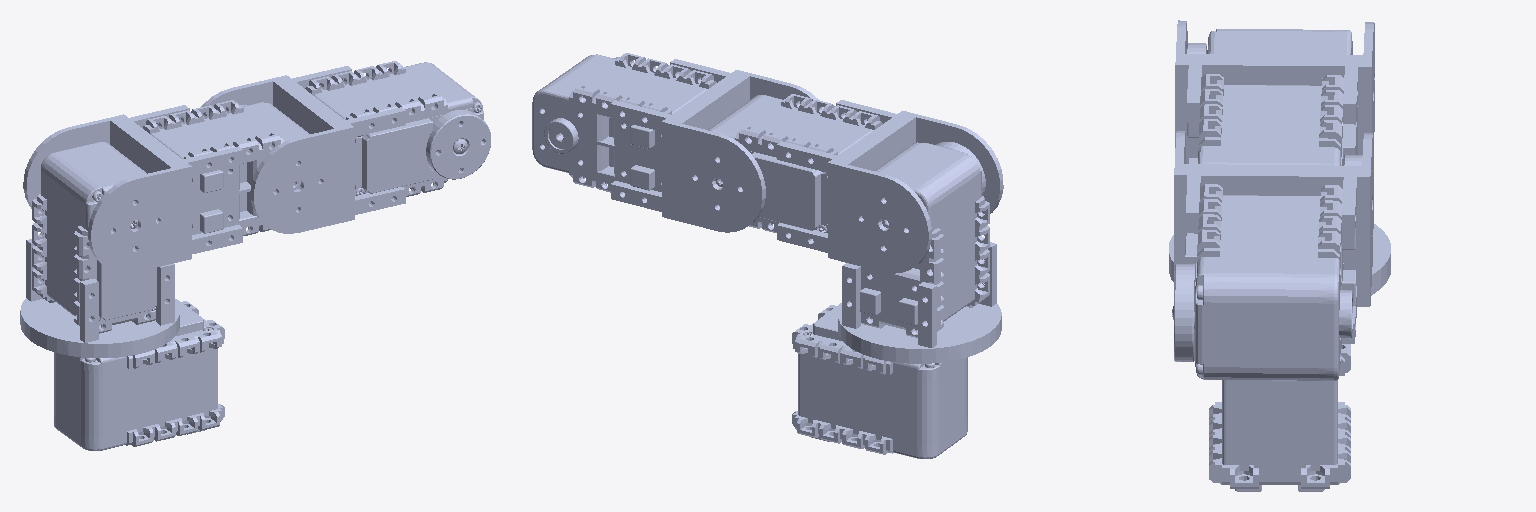
robot.urdf — acps:
<?xml version="1.0" encoding="utf-8"?>
<!-- This URDF was automatically created by SolidWorks to URDF Exporter! Originally created by [author] ([email redacted]) 
     Commit Version: 1.6.0-4-g7f85cfe  Build Version: 1.6.7995.38578
     For more information, please see http://wiki.ros.org/sw_urdf_exporter -->
<robot
  name="acps">
  <link
    name="base_link">
    <inertial>
      <origin
        xyz="0.012611 -6.0679E-09 0.02001"
        rpy="0 0 0" />
      <mass
        value="0.043005" />
      <inertia
        ixx="3.5652E-06"
        ixy="-9.8445E-12"
        ixz="-3.2723E-08"
        iyy="8.7138E-06"
        iyz="-6.3531E-13"
        izz="9.9719E-06" />
    </inertial>
    <visual>
      <origin
        xyz="0 0 0"
        rpy="0 0 0" />
      <geometry>
        <mesh
          filename="package://dynamixel_arm/meshes/base_link.STL" />
      </geometry>
      <material
        name="">
        <color
          rgba="0.79216 0.81961 0.93333 1" />
      </material>
    </visual>
    <collision>
      <origin
        xyz="0 0 0"
        rpy="0 0 0" />
      <geometry>
        <mesh
          filename="package://dynamixel_arm/meshes/base_link.STL" />
      </geometry>
    </collision>
  </link>
  <link
    name="link1">
    <inertial>
      <origin
        xyz="-2.1121E-05 -0.00096642 0.025442"
        rpy="0 0 0" />
      <mass
        value="0.053822" />
      <inertia
        ixx="1.0805E-05"
        ixy="2.4467E-08"
        ixz="-7.0498E-10"
        iyy="1.1924E-05"
        iyz="-3.2716E-08"
        izz="7.1817E-06" />
    </inertial>
    <visual>
      <origin
        xyz="0 0 0"
        rpy="0 0 0" />
      <geometry>
        <mesh
          filename="package://dynamixel_arm/meshes/link1.STL" />
      </geometry>
      <material
        name="">
        <color
          rgba="0.79216 0.81961 0.93333 1" />
      </material>
    </visual>
    <collision>
      <origin
        xyz="0 0 0"
        rpy="0 0 0" />
      <geometry>
        <mesh
          filename="package://dynamixel_arm/meshes/link1.STL" />
      </geometry>
    </collision>
  </link>
  <joint
    name="theta1"
    type="continuous">
    <origin
      xyz="0 0 0.0398"
      rpy="0 0 0" />
    <parent
      link="base_link" />
    <child
      link="link1" />
    <axis
      xyz="0 0 1" />
  </joint>
  <link
    name="link2">
    <inertial>
      <origin
        xyz="0.038557 -4.5964E-09 6.8917E-05"
        rpy="0 0 0" />
      <mass
        value="0.055878" />
      <inertia
        ixx="7.9123E-06"
        ixy="9.8443E-12"
        ixz="-3.2723E-08"
        iyy="1.3121E-05"
        iyz="6.0253E-13"
        izz="1.2397E-05" />
    </inertial>
    <visual>
      <origin
        xyz="0 0 0"
        rpy="0 0 0" />
      <geometry>
        <mesh
          filename="package://dynamixel_arm/meshes/link2.STL" />
      </geometry>
      <material
        name="">
        <color
          rgba="0.79216 0.81961 0.93333 1" />
      </material>
    </visual>
    <collision>
      <origin
        xyz="0 0 0"
        rpy="0 0 0" />
      <geometry>
        <mesh
          filename="package://dynamixel_arm/meshes/link2.STL" />
      </geometry>
    </collision>
  </link>
  <joint
    name="theta2"
    type="continuous">
    <origin
      xyz="0 0 0.0435"
      rpy="1.5708 0 -0.021846" />
    <parent
      link="link1" />
    <child
      link="link2" />
    <axis
      xyz="0 0 -1" />
    <limit
      lower="0"
      upper="0"
      effort="0"
      velocity="0" />
  </joint>
  <link
    name="link3">
    <inertial>
      <origin
        xyz="0.038557 4.7423E-09 0.00093108"
        rpy="0 0 0" />
      <mass
        value="0.055878" />
      <inertia
        ixx="7.9123E-06"
        ixy="-9.8431E-12"
        ixz="3.2723E-08"
        iyy="1.3121E-05"
        iyz="6.6801E-13"
        izz="1.2397E-05" />
    </inertial>
    <visual>
      <origin
        xyz="0 0 0"
        rpy="0 0 0" />
      <geometry>
        <mesh
          filename="package://dynamixel_arm/meshes/link3.STL" />
      </geometry>
      <material
        name="">
        <color
          rgba="0.79216 0.81961 0.93333 1" />
      </material>
    </visual>
    <collision>
      <origin
        xyz="0 0 0"
        rpy="0 0 0" />
      <geometry>
        <mesh
          filename="package://dynamixel_arm/meshes/link3.STL" />
      </geometry>
    </collision>
  </link>
  <joint
    name="theta3"
    type="continuous">
    <origin
      xyz="0.05855 0 0"
      rpy="0 0 0" />
    <parent
      link="link2" />
    <child
      link="link3" />
    <axis
      xyz="0 0 -1" />
    <limit
      lower="0"
      upper="0"
      effort="0"
      velocity="0" />
  </joint>
  <link
    name="link4">
    <inertial>
      <origin
        xyz="0.013893 -1.8041E-15 0.001"
        rpy="0 0 0" />
      <mass
        value="0.012873" />
      <inertia
        ixx="4.3471E-06"
        ixy="2.6012E-20"
        ixz="-4.8142E-21"
        iyy="4.4076E-06"
        iyz="-1.7487E-20"
        izz="2.4256E-06" />
    </inertial>
    <visual>
      <origin
        xyz="0 0 0"
        rpy="0 0 0" />
      <geometry>
        <mesh
          filename="package://dynamixel_arm/meshes/link4.STL" />
      </geometry>
      <material
        name="">
        <color
          rgba="0.79216 0.81961 0.93333 1" />
      </material>
    </visual>
    <collision>
      <origin
        xyz="0 0 0"
        rpy="0 0 0" />
      <geometry>
        <mesh
          filename="package://dynamixel_arm/meshes/link4.STL" />
      </geometry>
    </collision>
  </link>
  <joint
    name="theta4"
    type="continuous">
    <origin
      xyz="0.05855 0 0"
      rpy="0 0 0" />
    <parent
      link="link3" />
    <child
      link="link4" />
    <axis
      xyz="0 0 -1" />
    <limit
      lower="0"
      upper="0"
      effort="0"
      velocity="0" />
  </joint>
</robot>

--- What the picture shows (computed from the rendered views, not written in the file) ---
Views: 3 orthographic renders of the robot side by side, from view 1: azimuth 30°, elevation 25°; view 2: azimuth 150°, elevation 25°; view 3: azimuth 270°, elevation 25°.
Robot: acps — 5 links, 4 joints (4 continuous); root link base_link; default pose: all joints at 0.
Visible links, largest first — view 1: link3, link2, link1, base_link; view 2: link3, link2, link1, base_link; view 3: link3, link2, base_link, link1.
Boxes of the visible links, x1=… form: link3: x1=201, y1=61, x2=490, y2=233; link2: x1=23, y1=100, x2=319, y2=272; link1: x1=20, y1=142, x2=179, y2=357; base_link: x1=54, y1=299, x2=224, y2=450; link3: x1=532, y1=53, x2=823, y2=232; link2: x1=696, y1=94, x2=1003, y2=273; link1: x1=838, y1=142, x2=1001, y2=363; base_link: x1=792, y1=303, x2=967, y2=458; link3: x1=1172, y1=131, x2=1373, y2=380; link2: x1=1175, y1=20, x2=1374, y2=165; base_link: x1=1209, y1=344, x2=1350, y2=491; link1: x1=1169, y1=29, x2=1390, y2=295.
Bounding box of the posed robot: 0.1539 × 0.0499 × 0.0995 m (x, y, z).
4 mesh visuals loaded from 5 distinct referenced files (4 binary STL); not drawn: 1 (reference not matched to a file when rendering).